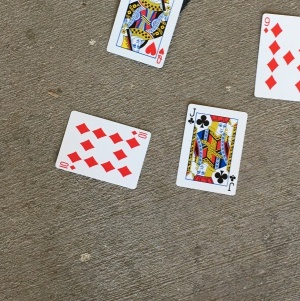card: (53, 110, 153, 191), (173, 100, 250, 196)
